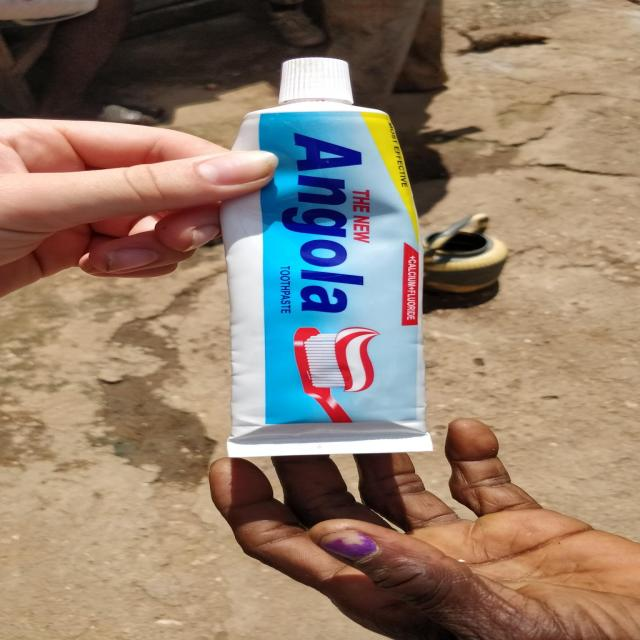Toothpaste: (208, 56, 436, 460)
